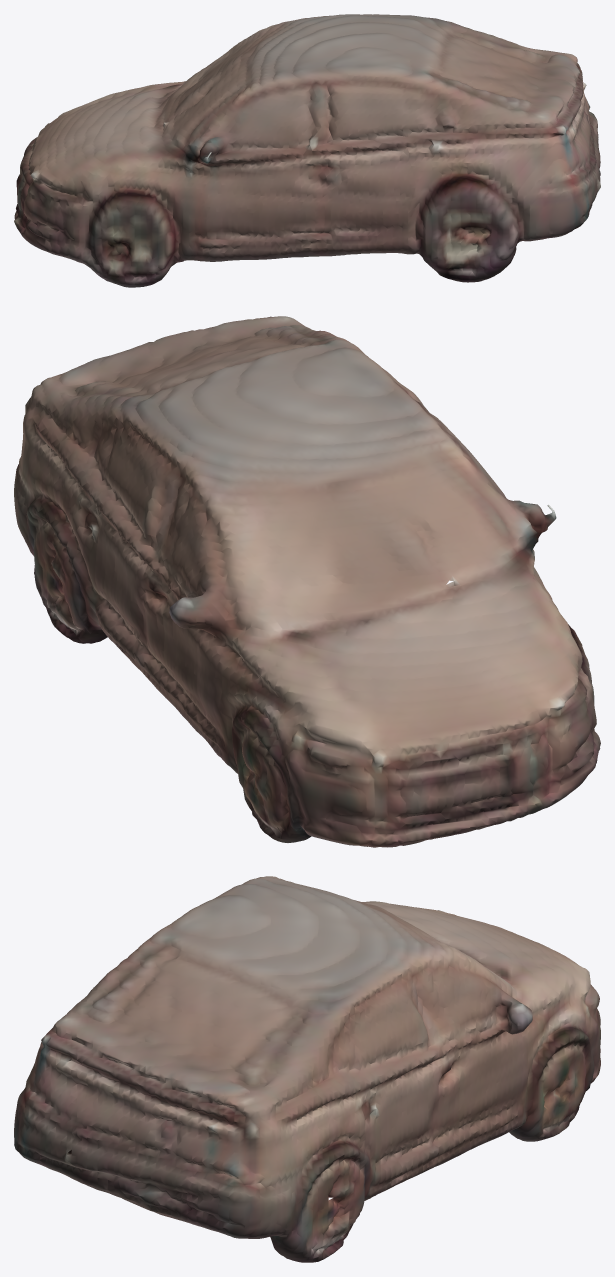
3 renders of one model, top to bottom at view 1: azimuth 30°, elevation 25°; view 2: azimuth 150°, elevation 25°; view 3: azimuth 270°, elevation 25°, orthographic. The views are drawn at different scales.
Bounding box in the file's own units: 0.8957 × 0.3921 × 0.7635.
